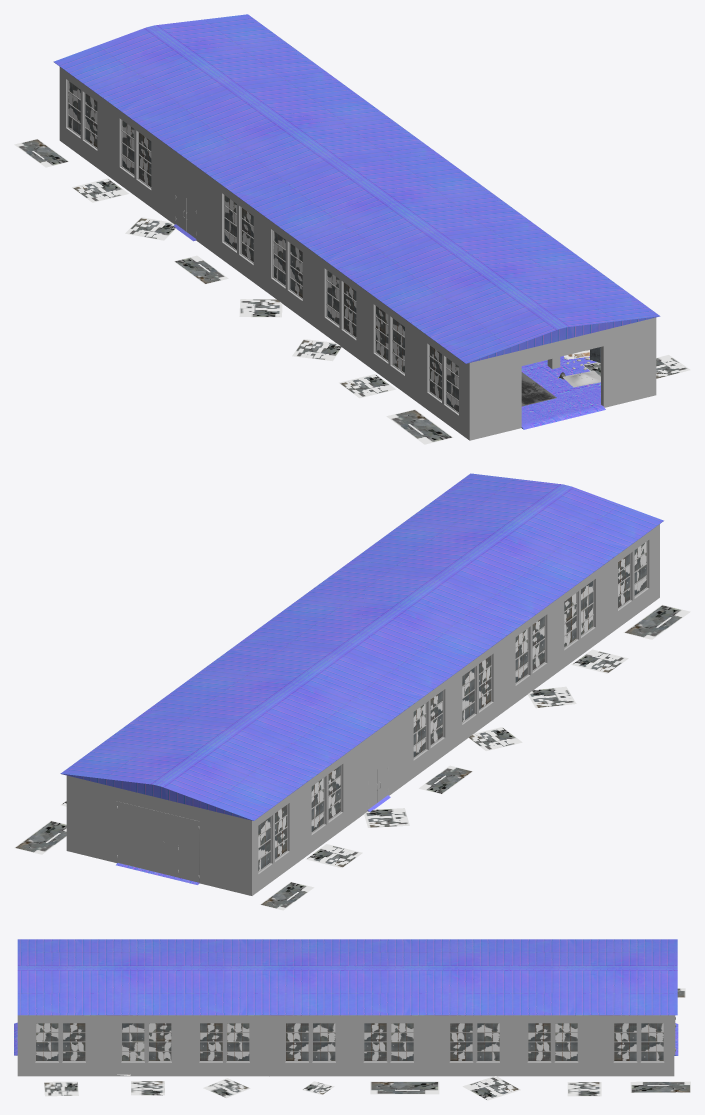
Rendered from Factory2Items.fbx.
3 renders of one model, top to bottom at view 1: azimuth 30°, elevation 25°; view 2: azimuth 150°, elevation 25°; view 3: azimuth 270°, elevation 25°, orthographic. The views are drawn at different scales.
Parts seen in each view (by area): view 1: Factory2Roof01__1_, Factory2Roof01__2_, Factory2Roof01__3_, Factory2Roof01__4_, Factory2Wall03__1_, Factory2Wall05, Factory2Wall06, Factory2Wall04, Factory2Wall04_1, Factory2Floor02__1_, Factory2Wall04Glass_1, Factory2Wall04Glass (+12 smaller); view 2: Factory2Roof01__3_, Factory2Roof01__1_, Factory2Roof01__4_, Factory2Roof01__2_, Factory2Wall03__2_, Factory2Wall04_1, Factory2Wall06, Factory2Wall04, Factory2Wall05, GatesDoorLeft, Factory2Wall04Glass, Factory2Wall04Glass_1 (+13 smaller); view 3: Factory2Roof01__1_, Factory2Roof01__3_, Factory2Roof01__4_, Factory2Roof01__2_, Factory2Wall04_2, Factory2Wall04_3, Factory2Wall05_1, Factory2Wall04_4, Factory2Wall04Glass_2, Factory2Wall04Glass_3, Factory2Wall04Glass_4, Factory2Wall05Glass_1 (+8 smaller).
Part boxes in pixels (bbox=[...]): Factory2Roof01__1_: bbox=[363, 241, 659, 363]; Factory2Roof01__2_: bbox=[261, 166, 557, 288]; Factory2Roof01__3_: bbox=[158, 91, 454, 213]; Factory2Roof01__4_: bbox=[56, 16, 352, 138]; Factory2Wall03__1_: bbox=[474, 318, 651, 439]; Factory2Wall05: bbox=[367, 292, 474, 440]; Factory2Wall06: bbox=[162, 142, 264, 290]; Factory2Wall04: bbox=[264, 217, 367, 365]; Factory2Wall04_1: bbox=[59, 67, 161, 214]; Factory2Floor02__1_: bbox=[521, 356, 600, 423]; Factory2Wall04Glass_1: bbox=[68, 81, 151, 186]; Factory2Wall04Glass: bbox=[273, 231, 356, 336]; Factory2Roof01__3_: bbox=[165, 623, 459, 744]; Factory2Roof01__1_: bbox=[369, 473, 663, 595]; Factory2Roof01__4_: bbox=[63, 697, 357, 819]; Factory2Roof01__2_: bbox=[267, 548, 561, 669]; Factory2Wall03__2_: bbox=[71, 776, 247, 894]; Factory2Wall04_1: bbox=[247, 748, 353, 895]; Factory2Wall06: bbox=[354, 673, 455, 821]; Factory2Wall04: bbox=[456, 599, 557, 746]; Factory2Wall05: bbox=[558, 524, 659, 671]; GatesDoorLeft: bbox=[117, 803, 158, 872]; Factory2Wall04Glass: bbox=[462, 616, 544, 721]; Factory2Wall04Glass_1: bbox=[258, 765, 340, 871]; Factory2Roof01__1_: bbox=[17, 939, 181, 1015]; Factory2Roof01__3_: bbox=[346, 939, 510, 1015]; Factory2Roof01__4_: bbox=[510, 939, 674, 1015]; Factory2Roof01__2_: bbox=[182, 939, 345, 1015]; Factory2Wall04_2: bbox=[510, 1015, 674, 1076]; Factory2Wall04_3: bbox=[346, 1015, 510, 1076]; Factory2Wall05_1: bbox=[17, 1015, 181, 1076]; Factory2Wall04_4: bbox=[182, 1015, 345, 1076]; Factory2Wall04Glass_2: bbox=[528, 1023, 663, 1060]; Factory2Wall04Glass_3: bbox=[364, 1023, 499, 1060]; Factory2Wall04Glass_4: bbox=[200, 1023, 335, 1060]; Factory2Wall05Glass_1: bbox=[36, 1023, 171, 1060].
Size of the model in its own units: 2003 by 596 by 4950.
